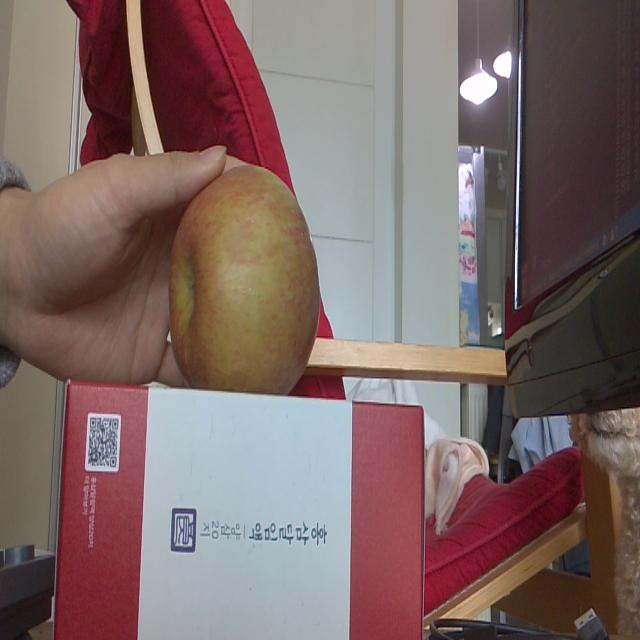apple: (168, 165, 322, 398)
